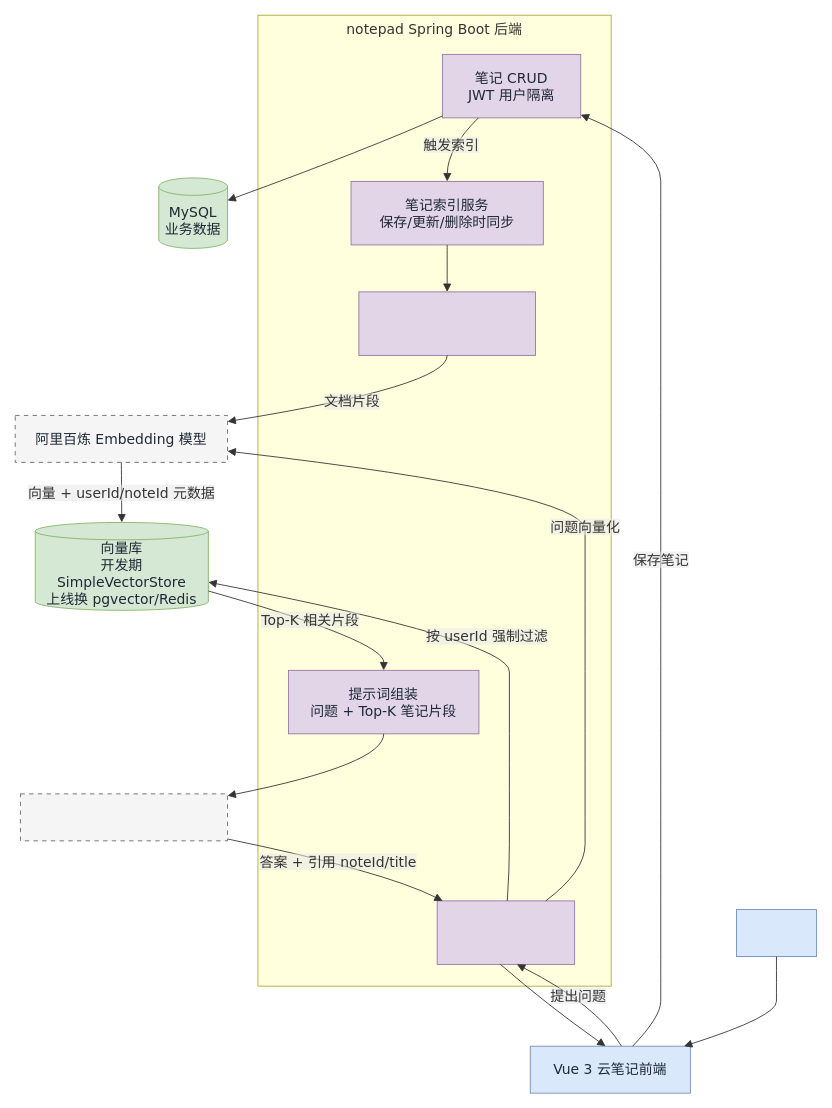
The diagram is 832 pixels wide and 1108 high, and some of its shapes have lost their labels. The shapes that lost their labels are listed below. From the top down, each one's centre as x and y in pixels, then its label:
At pixel 446 323: "文本切片 标题 + content_text".
At pixel 124 817: "阿里百炼 Qwen 对话模型".
At pixel 505 932: "RAG 问答接口 /api/ai/ask".
At pixel 776 933: "用户".
